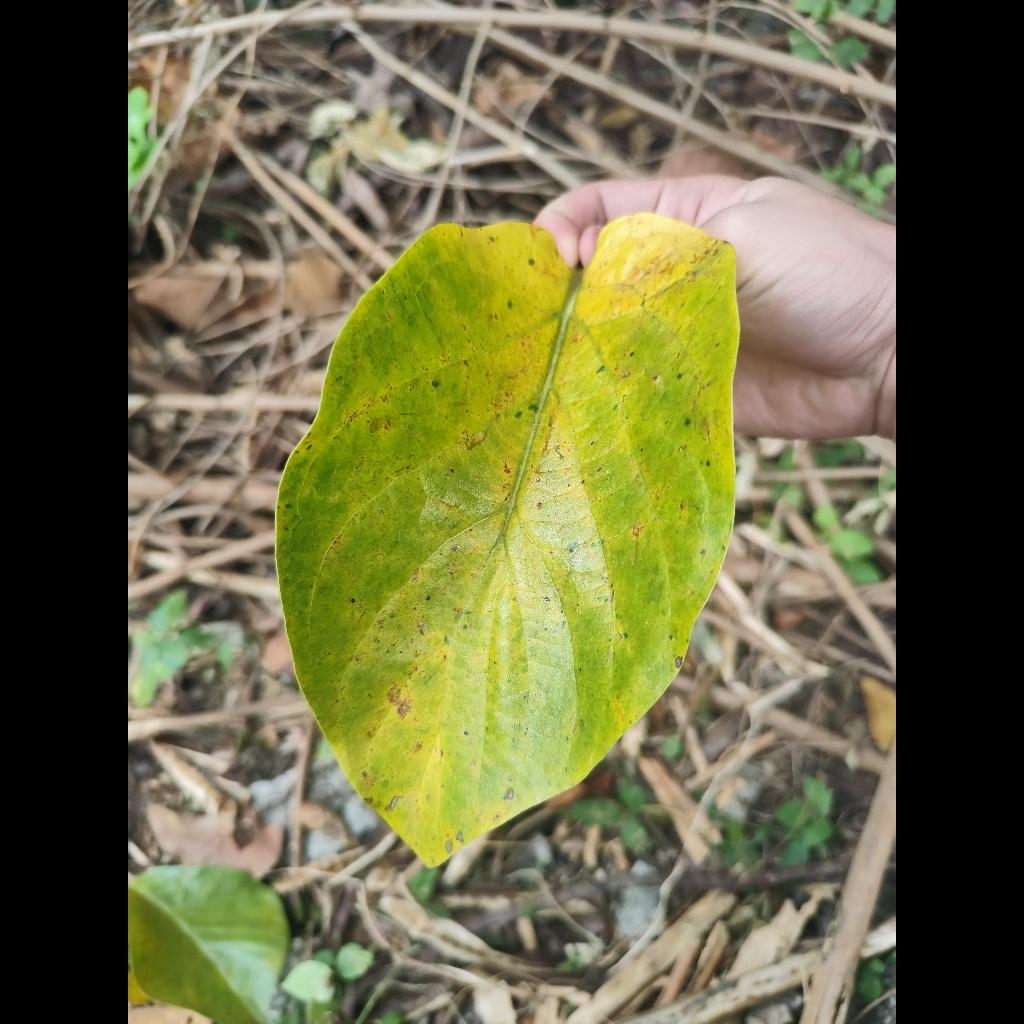nutrient_deficiency: (276, 214, 739, 865)
